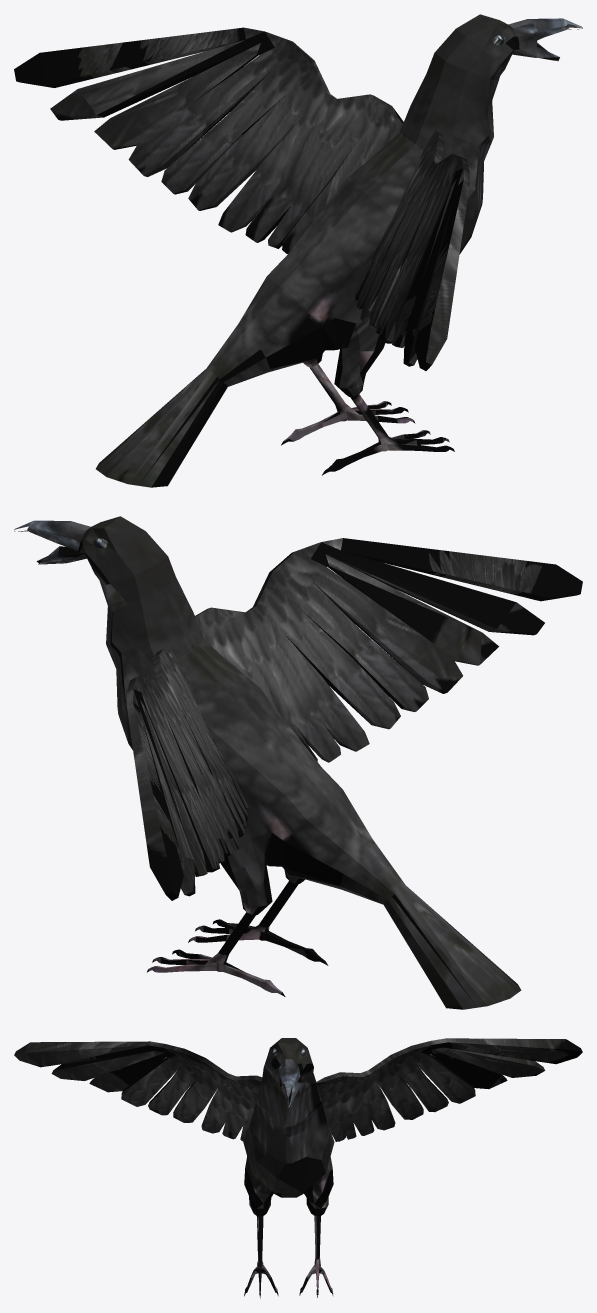
Rendered from crowTextureAnim_000014.obj.
The picture shows the model from 3 angles, top to bottom: view 1: azimuth 30°, elevation 25°; view 2: azimuth 150°, elevation 25°; view 3: azimuth 270°, elevation 25°; orthographic projection. The views are drawn at different scales.
Visible parts, largest first — view 1: Cylinder.001, Cylinder.002, Cylinder.003; view 2: Cylinder.001, Cylinder.003, Cylinder.002; view 3: Cylinder.002, Cylinder.001, Cylinder.003.
Part boxes in pixels (box(x1,y1,x2,y2)): Cylinder.001: box(96, 14, 582, 487); Cylinder.002: box(14, 27, 403, 253); Cylinder.003: box(355, 130, 469, 370); Cylinder.001: box(14, 516, 521, 1009); Cylinder.003: box(195, 538, 582, 762); Cylinder.002: box(126, 649, 248, 900); Cylinder.002: box(316, 1038, 582, 1141); Cylinder.001: box(243, 1038, 334, 1298); Cylinder.003: box(14, 1041, 262, 1141).
Bounding box in the file's own units: 5.22 × 4.1 × 7.62.
